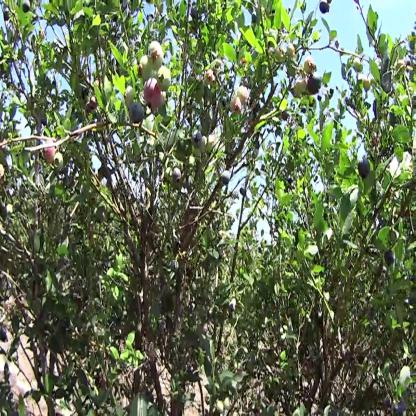intermediate: (44, 141, 56, 167), (238, 86, 251, 108), (231, 95, 243, 116), (207, 69, 215, 84), (364, 77, 372, 91)
mature: (145, 77, 164, 112), (129, 102, 145, 122), (308, 74, 321, 94), (358, 158, 371, 177), (173, 166, 183, 186), (192, 130, 203, 148), (384, 251, 395, 268), (221, 170, 231, 184), (320, 1, 330, 13)
young: (149, 41, 164, 70), (139, 54, 153, 83), (158, 66, 172, 91), (294, 80, 309, 99), (125, 87, 136, 109), (54, 153, 65, 175), (305, 56, 316, 75), (288, 43, 297, 62), (276, 45, 285, 63), (354, 58, 362, 72), (166, 168, 173, 182)
